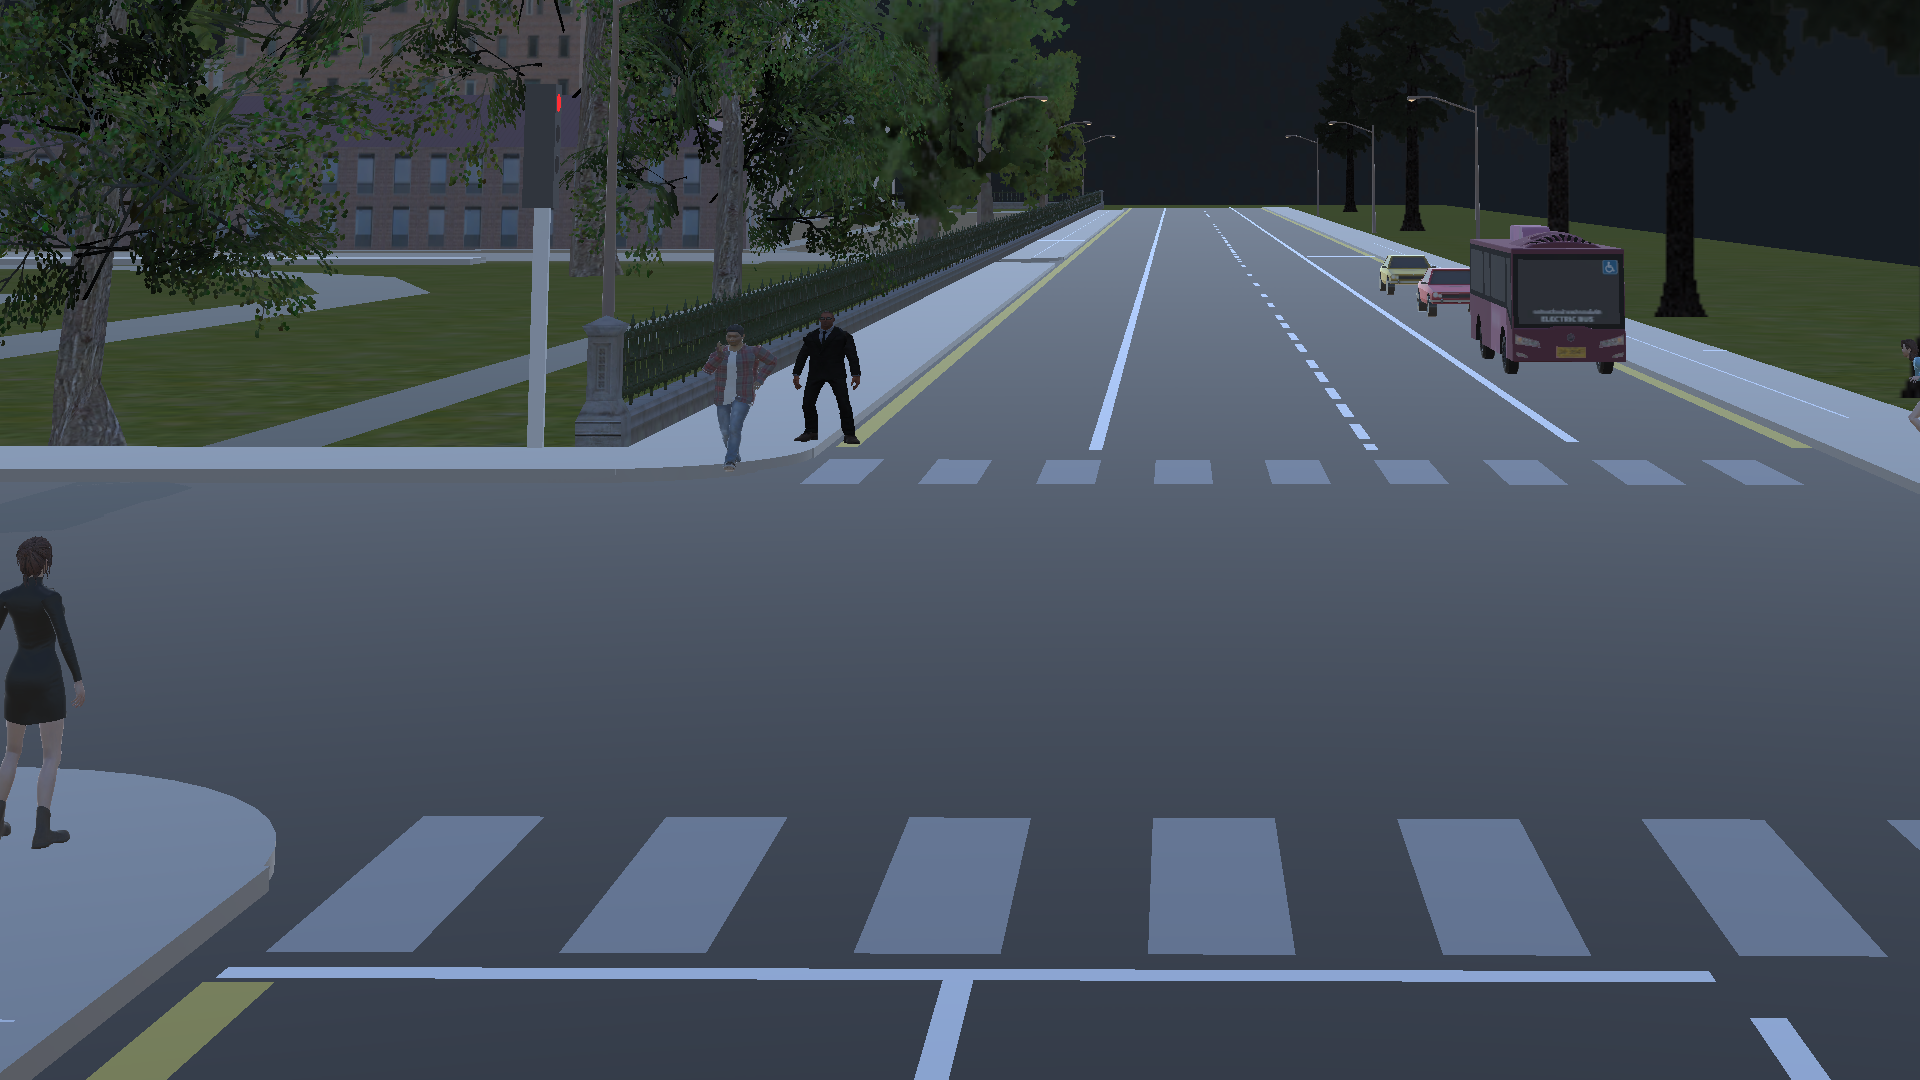pedestrian: (1, 515, 89, 897), (783, 296, 883, 460), (692, 303, 776, 493)
